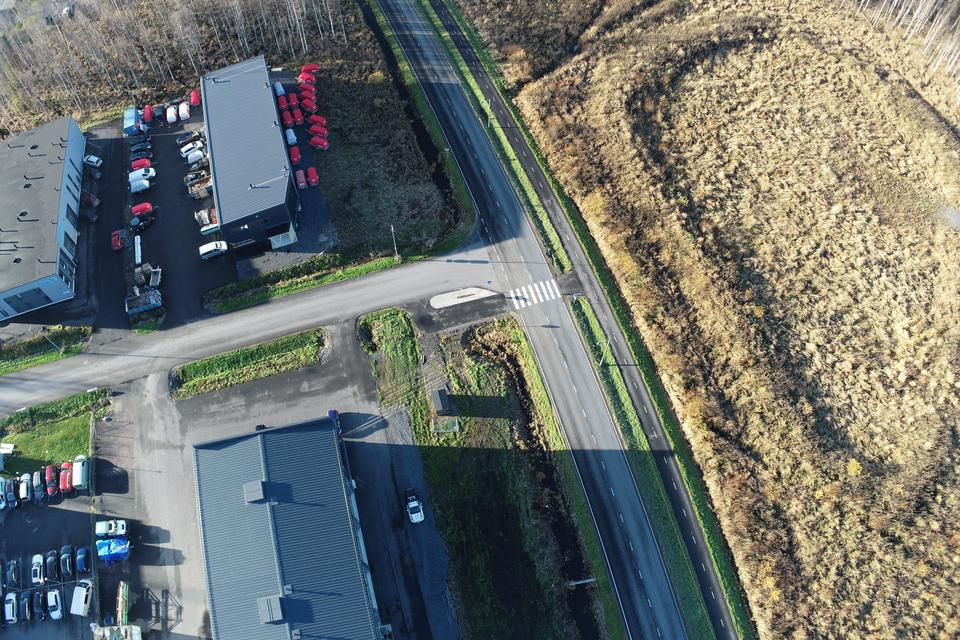intersection: (407, 204, 643, 345)
